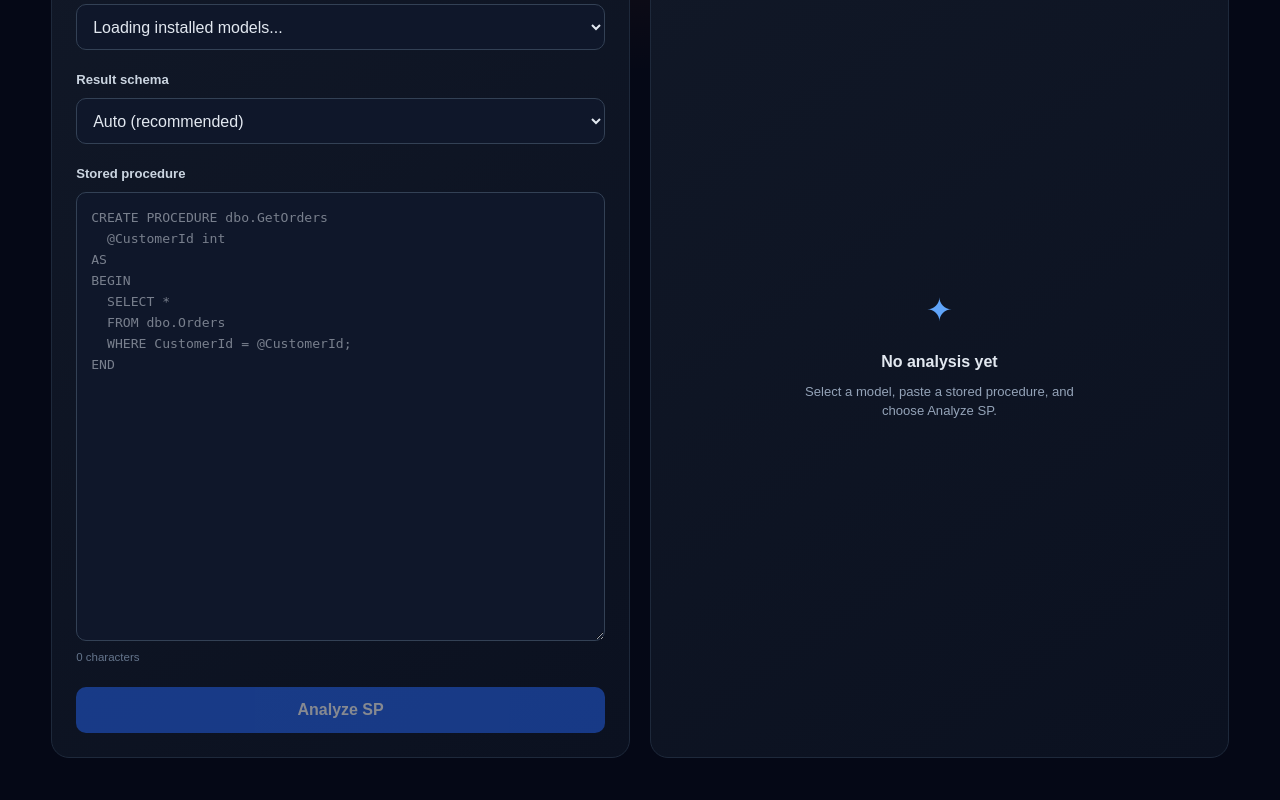
Scenario: ReviewPage › renders verified index recommendations with their DDL
(page scrolled)
Replace the text in the text box with placeholder "CREATE PROCEDURE" with "select 1". click: (341,417)
box: [76,192,605,641]
(page scrolled)
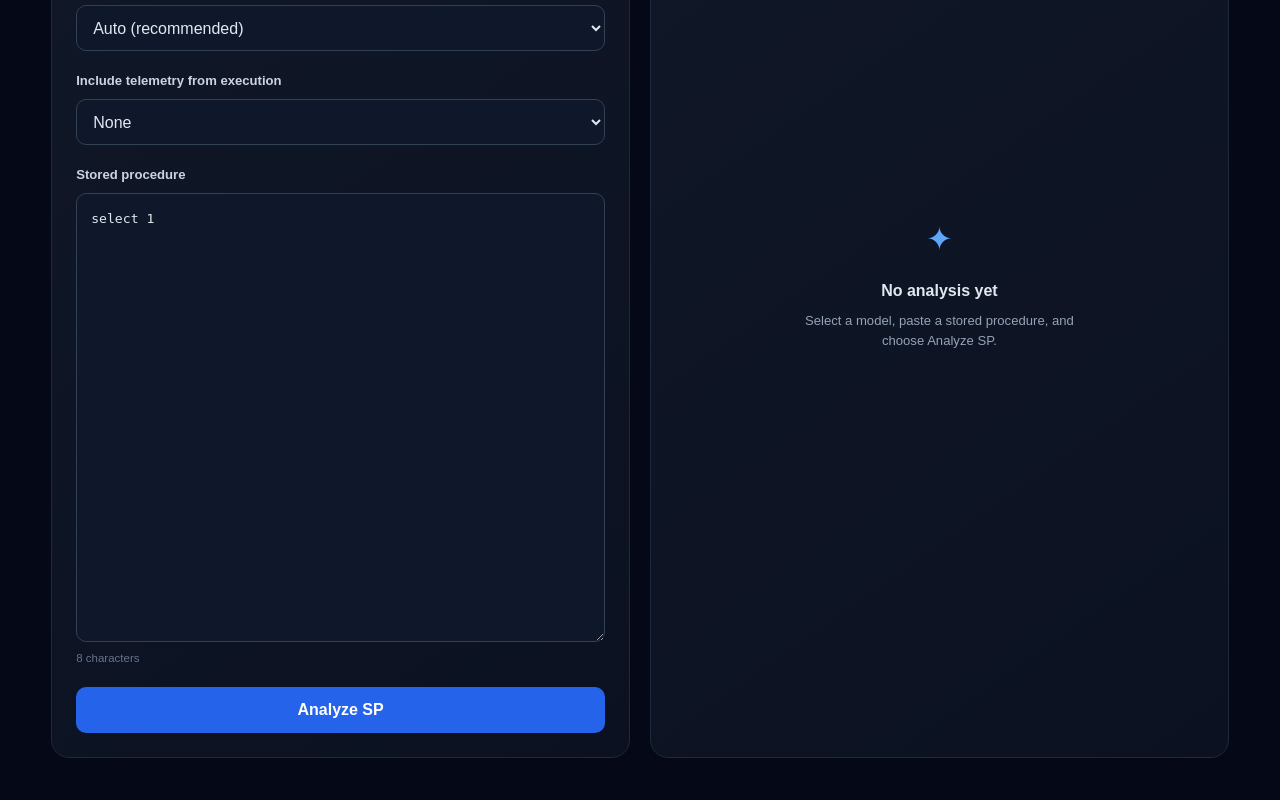
Click the button "Analyze SP". click: (341,710)
box: [76,688,605,734]
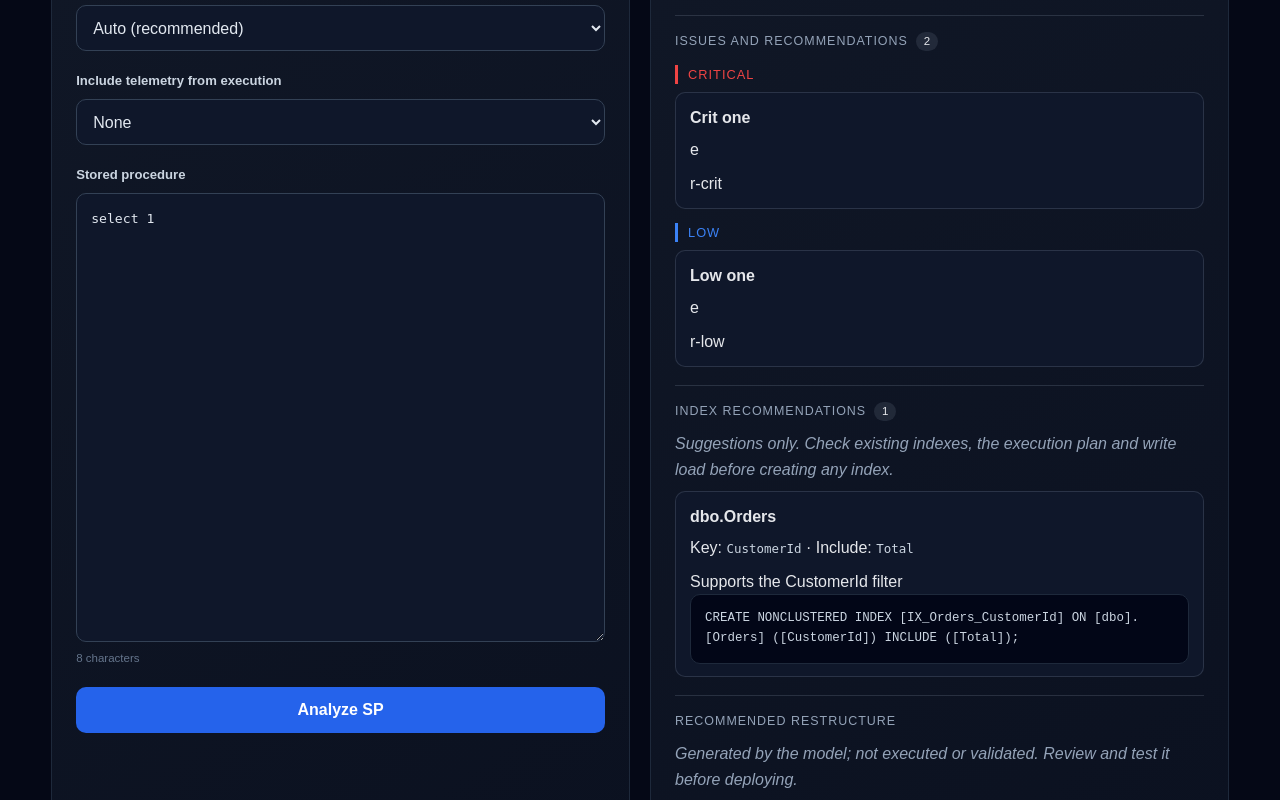
Expected: the heading "Index recommendations 1" is shown, [675,402,896,422]
Expected: the text "Supports the CustomerId filter" is shown, [690,573,902,590]
Expected: the text "CREATE NONCLUSTERED INDEX [IX_Orders_CustomerId]" is shown, [705,611,1139,645]
